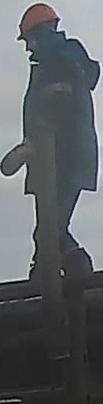gloves: (1, 136, 33, 180)
helmet: (14, 0, 63, 42)
vest: (22, 38, 101, 197)
